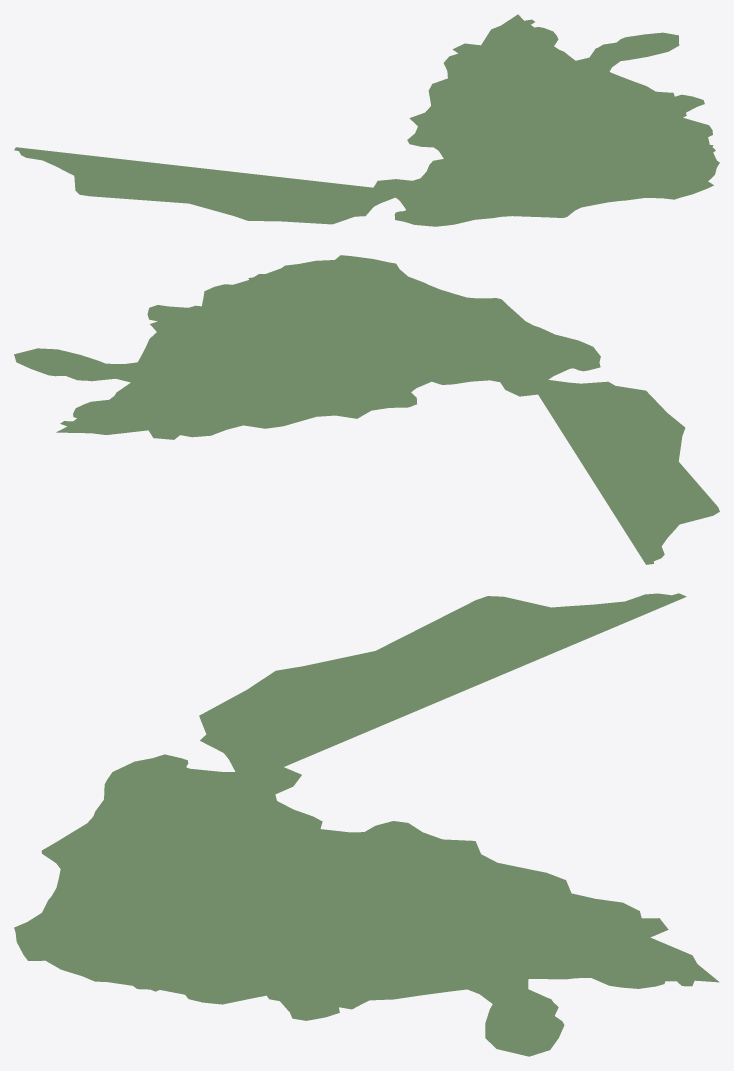
File: Mesh_Home_Terrain_yy.fbx
3 views of the same model, one above another, from view 1: azimuth 30°, elevation 25°; view 2: azimuth 150°, elevation 25°; view 3: azimuth 270°, elevation 25° (orthographic). The views are drawn at different scales.
Visible parts, largest first — view 1: Mesh_Home_Terrain_yy; view 2: Mesh_Home_Terrain_yy; view 3: Mesh_Home_Terrain_yy.
Boxes of the visible parts, <box> form: Mesh_Home_Terrain_yy: <box>14,14,719,226</box>; Mesh_Home_Terrain_yy: <box>14,255,719,564</box>; Mesh_Home_Terrain_yy: <box>14,593,719,1056</box>.
Size of the model in its own units: 4231 by 1.68e-05 by 2724.
